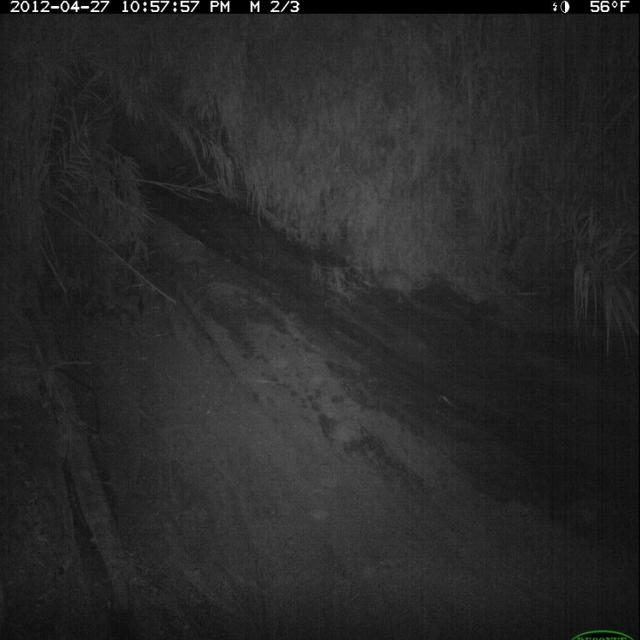opossum: (375, 268, 430, 306)
